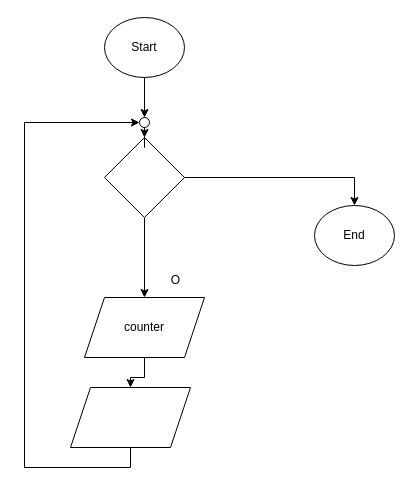
Some shapes in this 412 by 493 pixel diagram are drawn without their labels. Here are the shapes that lost their labels. From the top down, the centre of each, then its label:
point (144, 177): counter <= 10
point (130, 417): counter++
